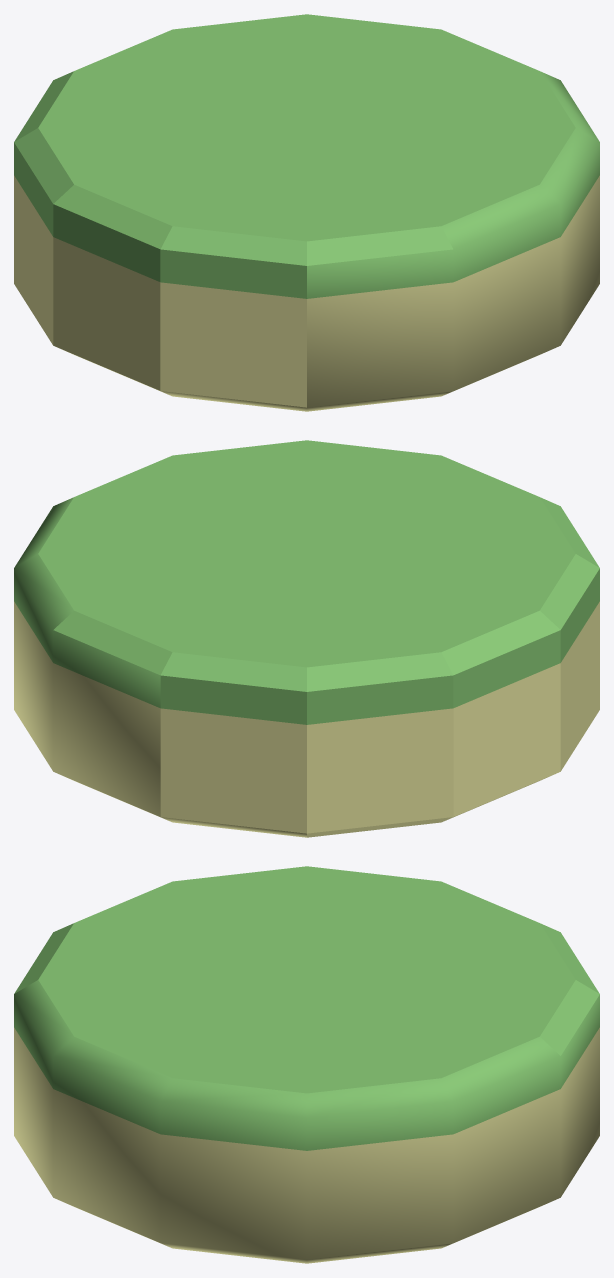
Rendered from susemi.fbx.
3 views of the same model, one above another, from view 1: azimuth 30°, elevation 25°; view 2: azimuth 150°, elevation 25°; view 3: azimuth 270°, elevation 25° (orthographic).
Visible parts, largest first — view 1: Cylinder001; view 2: Cylinder001; view 3: Cylinder001.
Part boxes in pixels (bbox=[...]): Cylinder001: bbox=[14, 14, 599, 411]; Cylinder001: bbox=[14, 440, 599, 837]; Cylinder001: bbox=[14, 866, 599, 1263].
Bounding box in the file's own units: 30 × 9.62 × 30.
